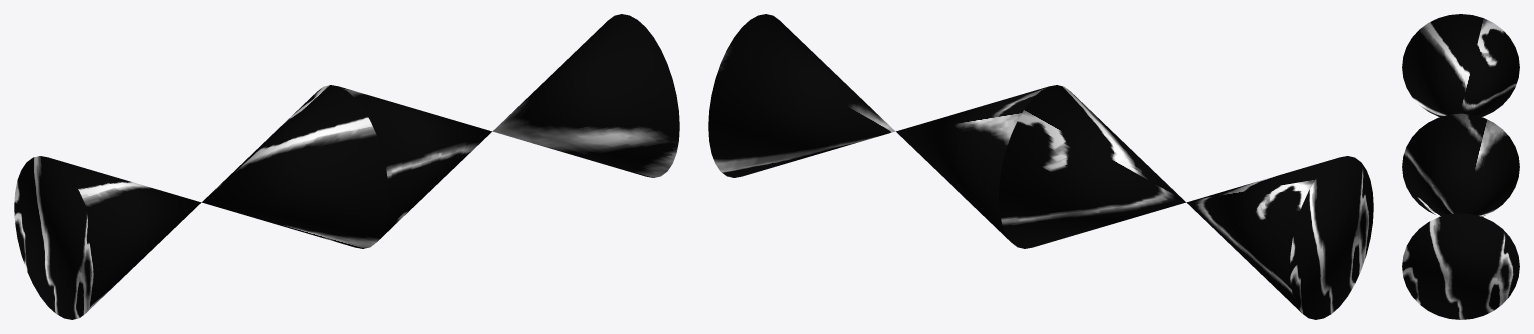
File: andhowcanbody.glb
3 renders of one model, left to right at view 1: azimuth 30°, elevation 25°; view 2: azimuth 150°, elevation 25°; view 3: azimuth 270°, elevation 25°, orthographic. The views are drawn at different scales.
Parts seen in each view (by area): view 1: videotarget2, videotarget3, videotarget4, videotarget1; view 2: videotarget2, videotarget3, videotarget4, videotarget1; view 3: videotarget2, videotarget1, videotarget3.
Boxes of the visible parts, x1=… form: videotarget2: x1=492, y1=14, x2=679, y2=177; videotarget3: x1=14, y1=156, x2=201, y2=319; videotarget4: x1=202, y1=85, x2=388, y2=248; videotarget1: x1=339, y1=86, x2=491, y2=241; videotarget2: x1=708, y1=14, x2=895, y2=177; videotarget3: x1=1186, y1=156, x2=1373, y2=319; videotarget4: x1=999, y1=85, x2=1185, y2=248; videotarget1: x1=896, y1=86, x2=1048, y2=241; videotarget2: x1=1402, y1=213, x2=1519, y2=319; videotarget1: x1=1402, y1=113, x2=1519, y2=216; videotarget3: x1=1402, y1=14, x2=1519, y2=116.
Bounding box in the file's own units: 2 × 0.5 × 0.5.
1 material, 1 textured.
